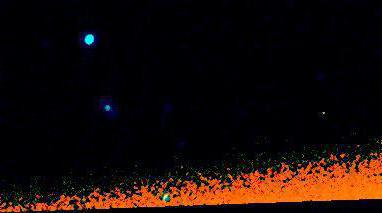star: (314, 100, 344, 130)
